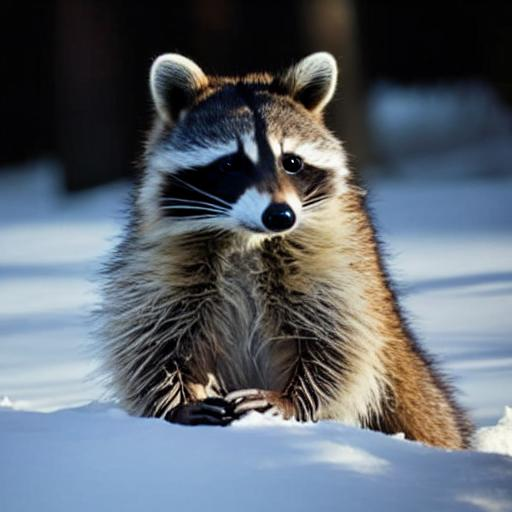raccoon: (102, 44, 472, 449)
